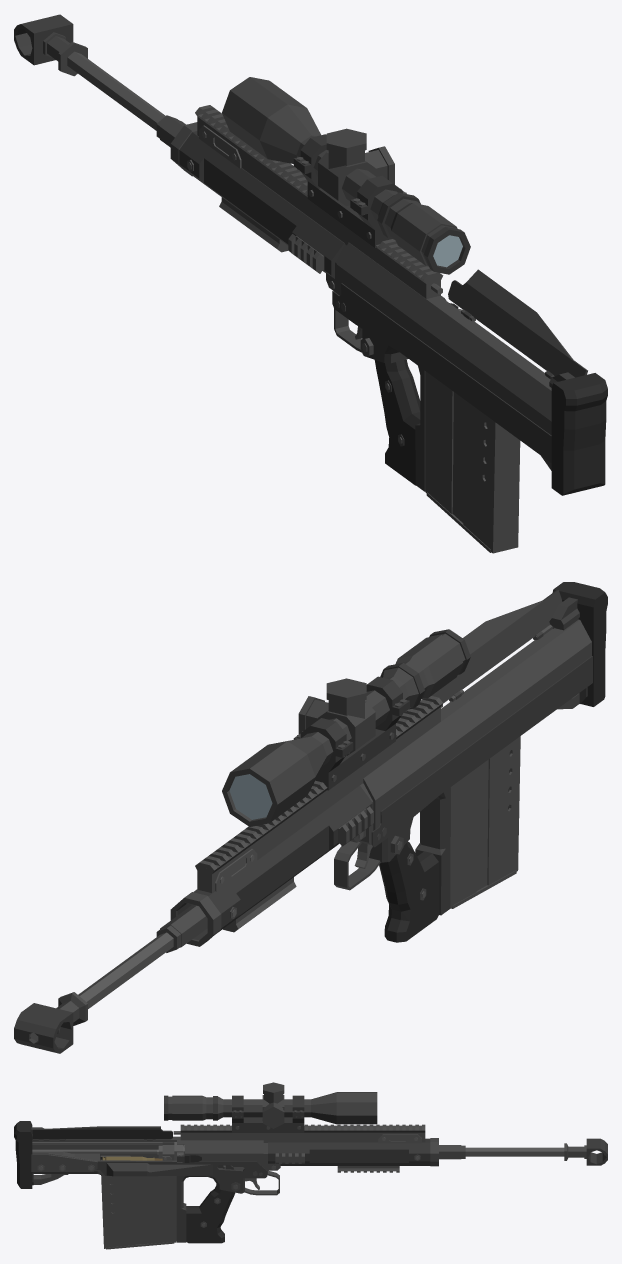
Rendered from lynx_amr.glb.
3 renders of one model, top to bottom at view 1: azimuth 30°, elevation 25°; view 2: azimuth 150°, elevation 25°; view 3: azimuth 270°, elevation 25°, orthographic. The views are drawn at different scales.
Visible parts, largest first — view 1: body, builtin_sight; view 2: body, builtin_sight; view 3: body, builtin_sight.
Part boxes in pixels (box(x1,y1,x2,y2)): body: box(14, 14, 607, 553); builtin_sight: box(222, 77, 470, 274); body: box(14, 582, 607, 1053); builtin_sight: box(222, 629, 470, 826); body: box(14, 1121, 607, 1249); builtin_sight: box(164, 1082, 377, 1128).
Size of the model in its own units: 0.0788 by 0.3326 by 1.13.
